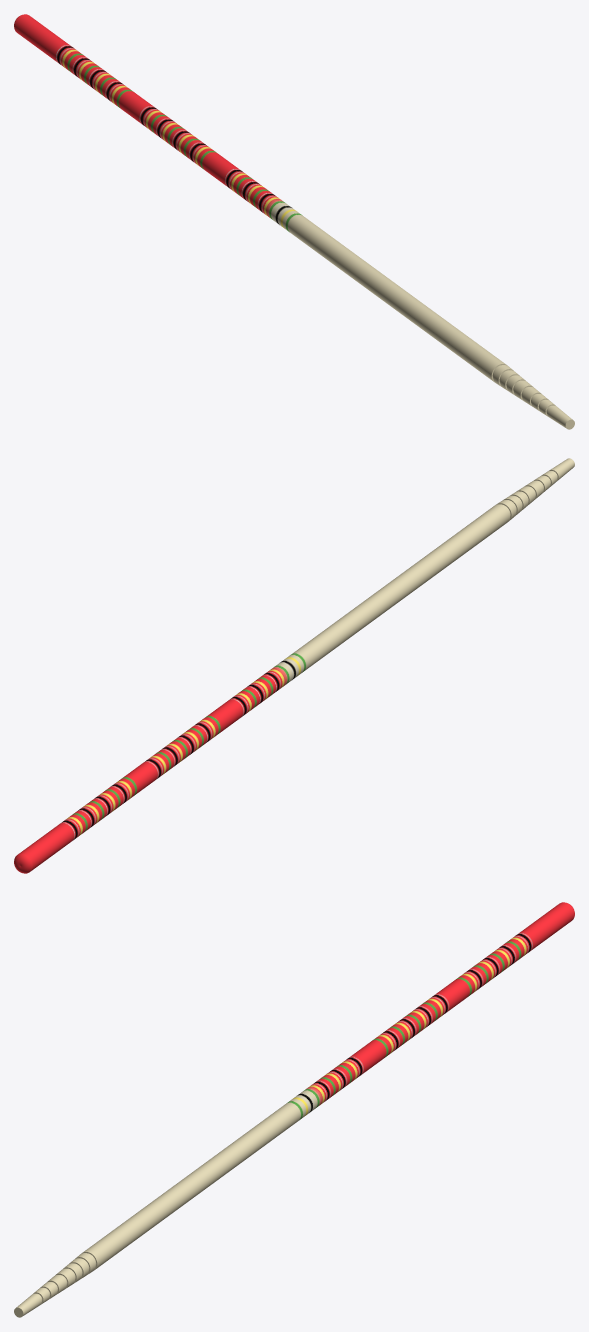
Rendered from 810_saibashi.glb.
3 views of the same model, one above another, from view 1: azimuth 30°, elevation 25°; view 2: azimuth 150°, elevation 25°; view 3: azimuth 330°, elevation 25° (orthographic).
Visible parts, largest first — view 1: Body; view 2: Body; view 3: Body.
Boxes of the visible parts, x1,y1,x2,y2 form: Body: (14, 14, 574, 429); Body: (14, 458, 574, 873); Body: (14, 902, 574, 1317).
Bounding box in the file's own units: 0.007 × 0.007 × 0.3603.
Materials: 1 (1 with a texture image).
